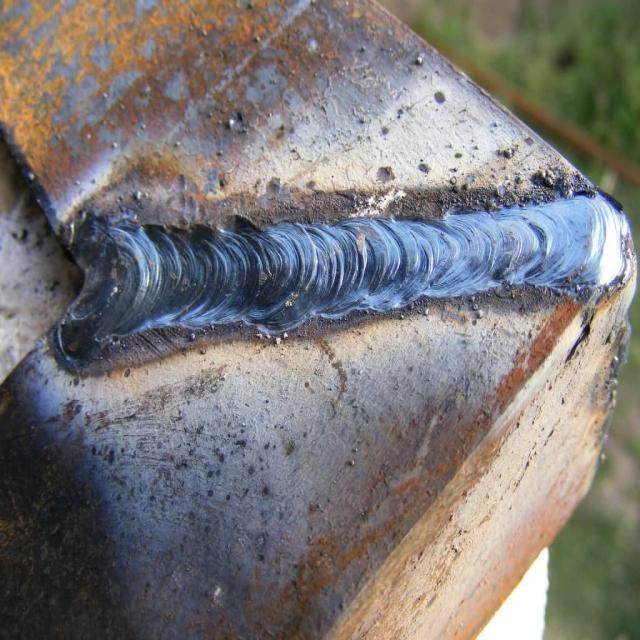Bad Welding: (43, 185, 628, 374)
